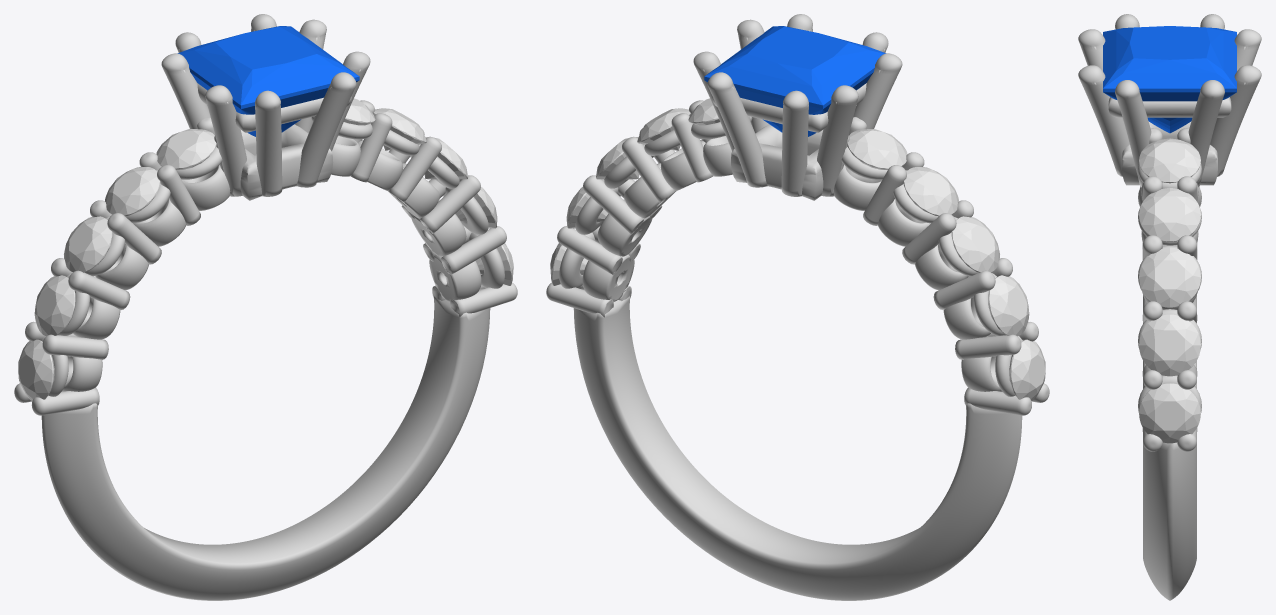
The model's file is bluesapphire-princess-platinum-8prong-knifeedge-11stone.glb.
3 views of the same model, side by side, from view 1: azimuth 30°, elevation 25°; view 2: azimuth 150°, elevation 25°; view 3: azimuth 270°, elevation 25° (orthographic). The views are drawn at different scales.
Visible parts, largest first — view 1: metal, stone, side.002, side.003, side.001, side.004, side, side.006, side.007; view 2: metal, stone, side.002, side.003, side.001, side.004, side, side.006, side.007; view 3: metal, stone, side.008, side.007, side.009, side.006, side.005.
Part boxes in pixels (box(x1,y1,x2,y2)): metal: box(14, 14, 517, 600); stone: box(177, 26, 359, 136); side.002: box(64, 216, 112, 272); side.003: box(105, 167, 160, 216); side.001: box(34, 275, 75, 336); side.004: box(156, 129, 216, 169); side: box(18, 339, 54, 400); side.006: box(373, 108, 426, 150); side.007: box(424, 137, 467, 179); metal: box(546, 14, 1049, 600); stone: box(704, 26, 886, 136); side.002: box(951, 216, 999, 272); side.003: box(903, 167, 958, 216); side.001: box(988, 275, 1029, 336); side.004: box(847, 129, 907, 169); side: box(1009, 339, 1045, 400); side.006: box(637, 108, 690, 150); side.007: box(596, 137, 639, 179); metal: box(1078, 14, 1261, 600); stone: box(1103, 26, 1236, 133); side.008: box(1139, 314, 1200, 376); side.007: box(1139, 247, 1200, 307); side.009: box(1139, 383, 1200, 443); side.006: box(1139, 188, 1200, 241); side.005: box(1139, 138, 1200, 183).
Bounding box in the file's own units: 22.05 × 23.85 × 7.42.
